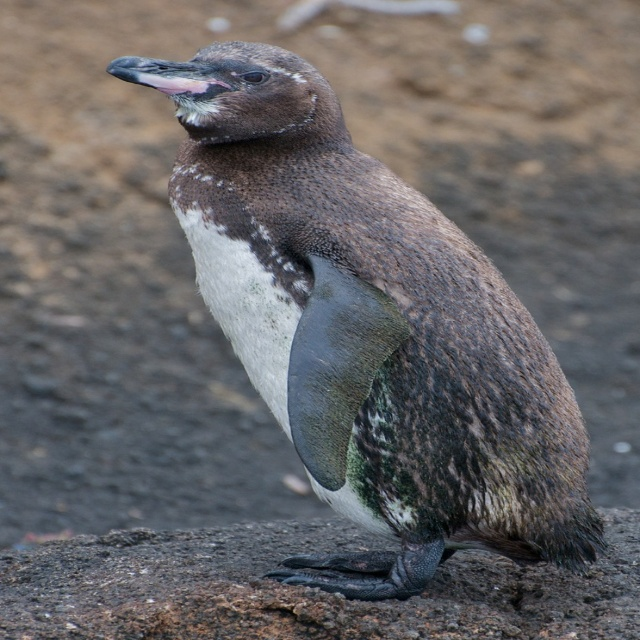Penguin: (103, 36, 611, 602)
